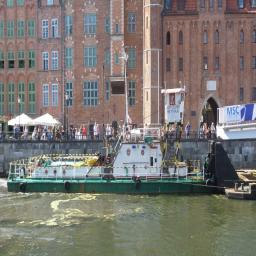tugboat: (6, 86, 228, 200)
